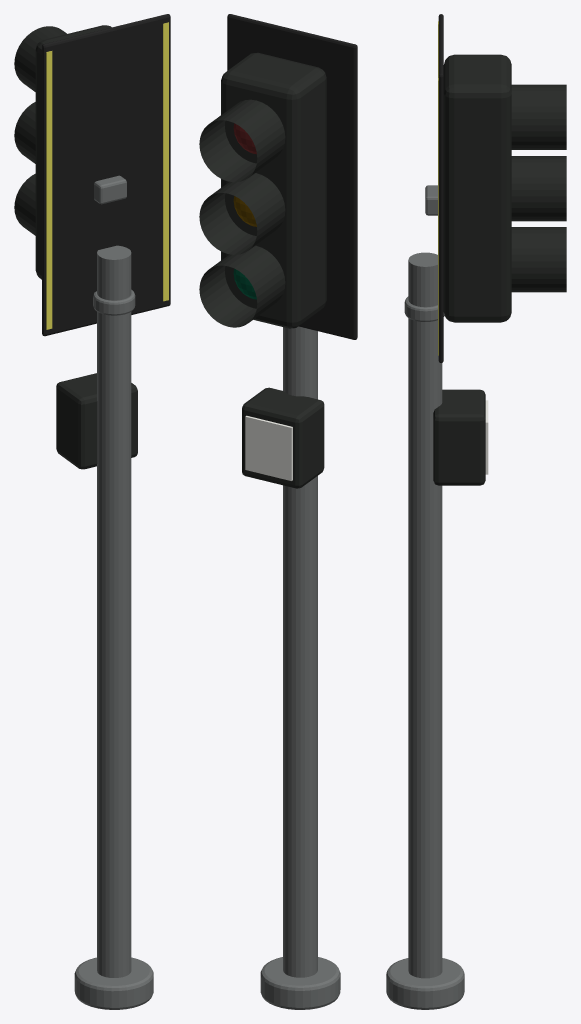
File: traffic_light.glb
3 renders of one model, left to right at view 1: azimuth 30°, elevation 25°; view 2: azimuth 150°, elevation 25°; view 3: azimuth 270°, elevation 25°, orthographic. The views are drawn at different scales.
Parts seen in each view (by area): view 1: traffic_light; view 2: traffic_light; view 3: traffic_light.
Boxes of the visible parts, <box> form: traffic_light: <box>14,14,170,1009</box>; traffic_light: <box>199,14,357,1009</box>; traffic_light: <box>386,14,566,1009</box>.
Bounding box in the file's own units: 0.56 × 4.01 × 0.69.
